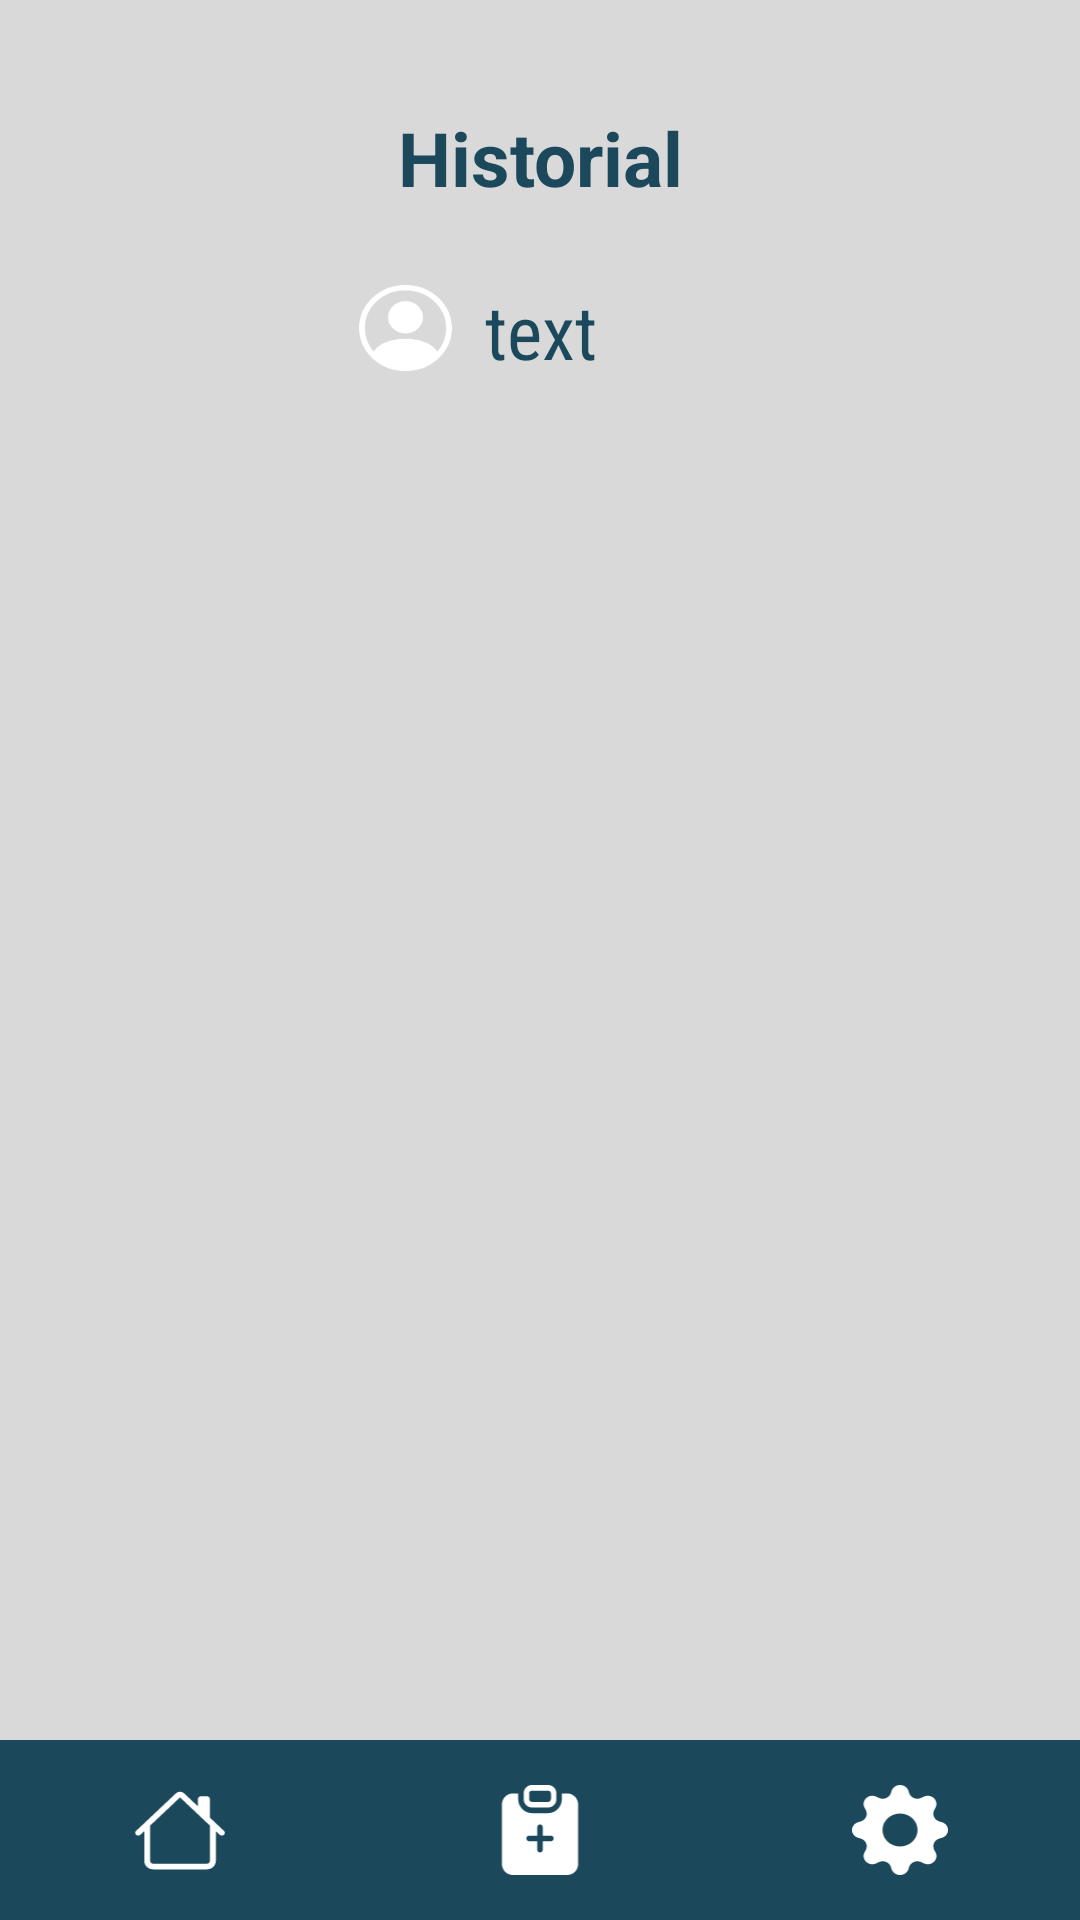

Icon click points for this 1080px x 1920px phone screenshot, format (x=x, y=y):
Agregar: (x=540, y=1830)
Configuración: (x=900, y=1830)
Inicio: (x=180, y=1830)
user: (x=405, y=328)
